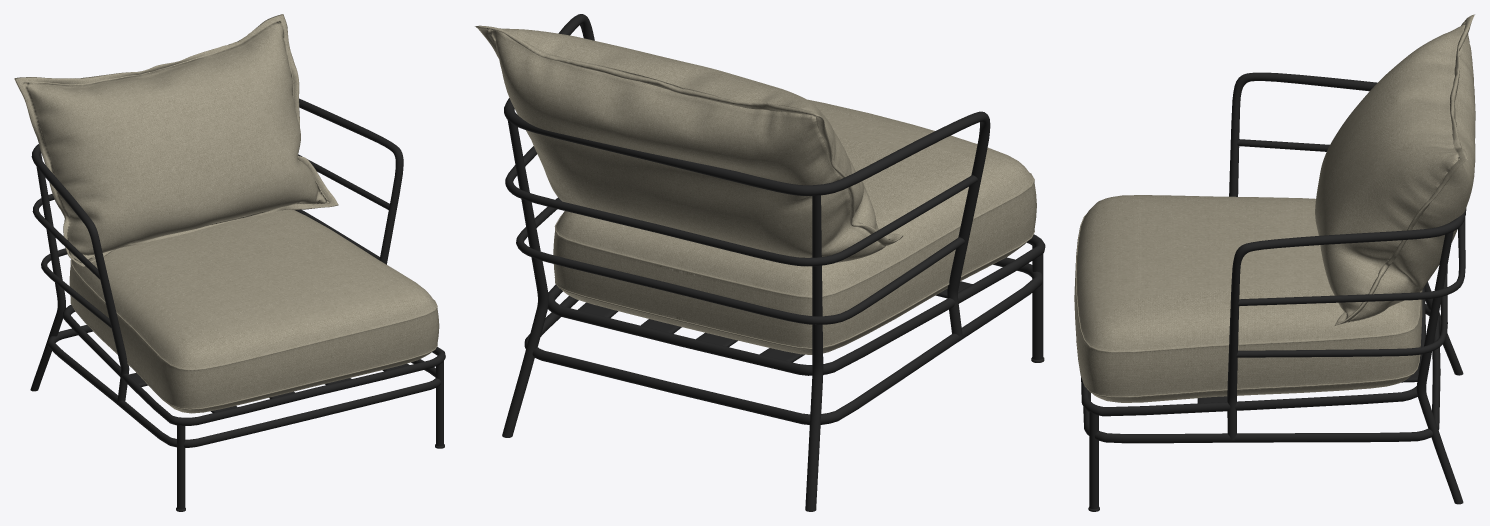
The picture shows the model from 3 angles, left to right: view 1: azimuth 30°, elevation 25°; view 2: azimuth 150°, elevation 25°; view 3: azimuth 270°, elevation 25°; orthographic projection. The views are drawn at different scales.
Parts seen in each view (by area): view 1: 16_Mesh.3943_0, 13_Mesh.3942_0; view 2: 16_Mesh.3943_0, 13_Mesh.3942_0; view 3: 16_Mesh.3943_0, 13_Mesh.3942_0.
Boxes of the visible parts, x1,y1,x2,y2 form: 16_Mesh.3943_0: [14, 14, 439, 413]; 13_Mesh.3942_0: [30, 98, 445, 511]; 16_Mesh.3943_0: [475, 25, 1036, 354]; 13_Mesh.3942_0: [502, 14, 1045, 511]; 16_Mesh.3943_0: [1074, 14, 1475, 402]; 13_Mesh.3942_0: [1081, 72, 1466, 511].
Size of the model in its own units: 0.7989 by 0.7586 by 0.7775.
2 materials, 1 textured.
